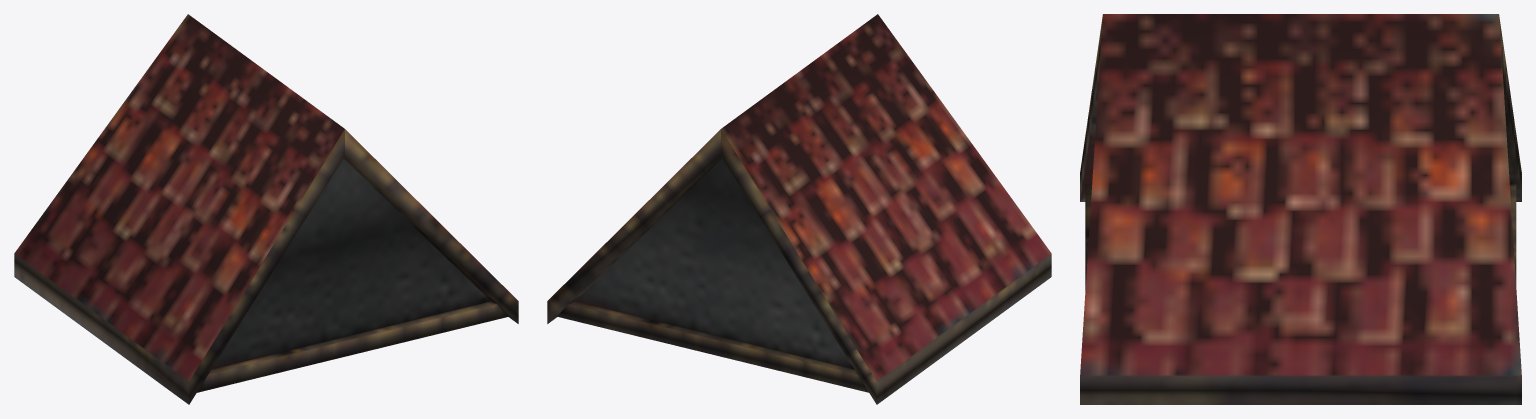
The model's file is HouseLongCube.fbx.
The picture shows the model from 3 angles, left to right: view 1: azimuth 30°, elevation 25°; view 2: azimuth 150°, elevation 25°; view 3: azimuth 270°, elevation 25°; orthographic projection. The views are drawn at different scales.
Visible parts, largest first — view 1: HouseCubeRoof; view 2: HouseCubeRoof; view 3: HouseCubeRoof.
Boxes of the visible parts, x1,y1,x2,y2 form: HouseCubeRoof: (14, 14, 518, 404); HouseCubeRoof: (547, 14, 1051, 404); HouseCubeRoof: (1080, 14, 1521, 404).
Size of the model in its own units: 810 by 539 by 745.
